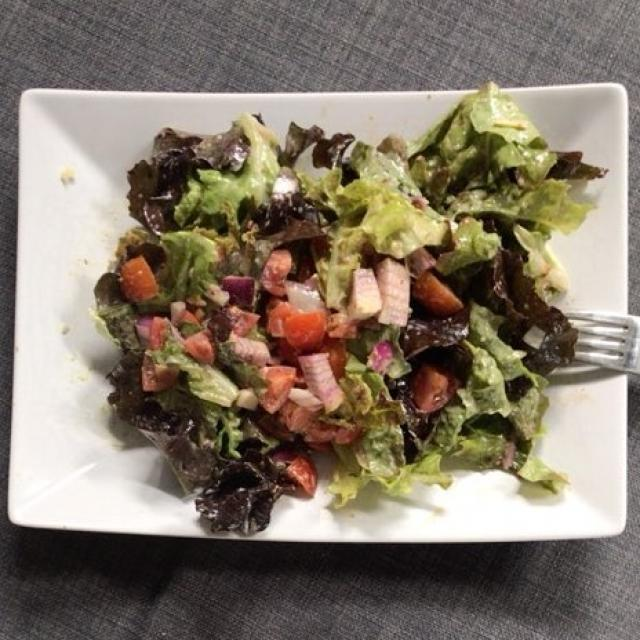onion: (302, 239, 416, 419)
salad: (111, 99, 592, 521)
tomato: (114, 256, 467, 491)
